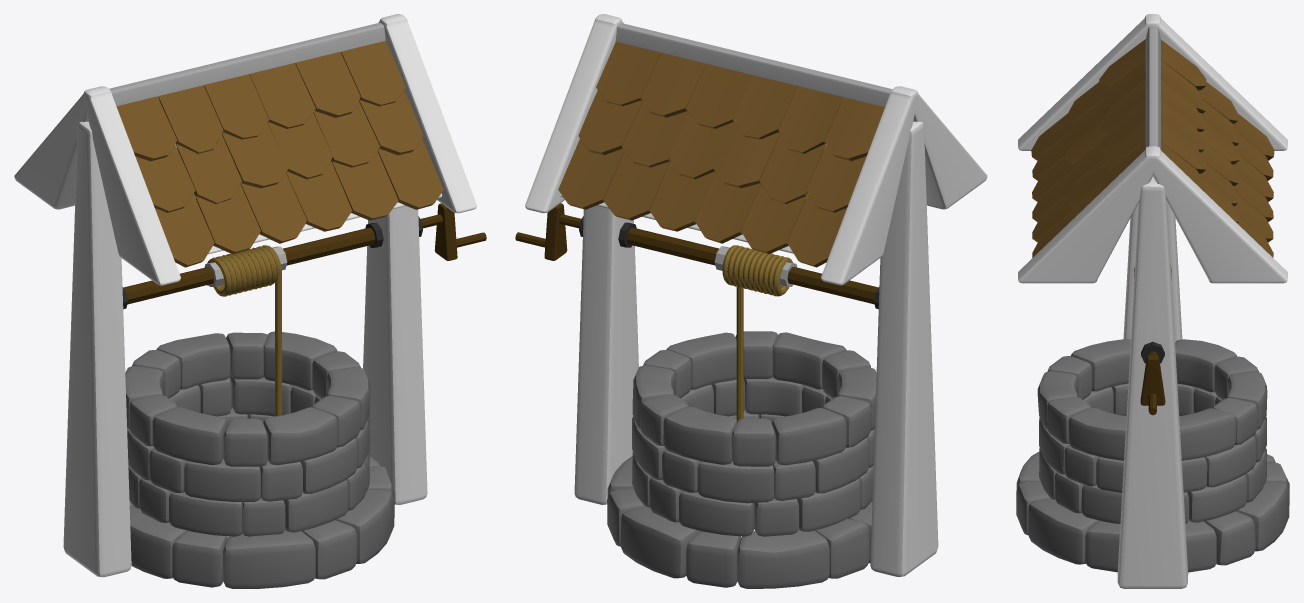
The model's file is well_rampage.fbx.
3 renders of one model, left to right at view 1: azimuth 30°, elevation 25°; view 2: azimuth 150°, elevation 25°; view 3: azimuth 270°, elevation 25°, orthographic. The views are drawn at different scales.
Parts seen in each view (by area): view 1: pHelix2; view 2: pHelix2; view 3: pHelix2.
Boxes of the visible parts, x1,y1,x2,y2 form: pHelix2: (14, 14, 486, 588); pHelix2: (515, 14, 987, 588); pHelix2: (1016, 14, 1289, 588).
Bounding box in the file's own units: 0.1134 × 0.1276 × 0.0723.
